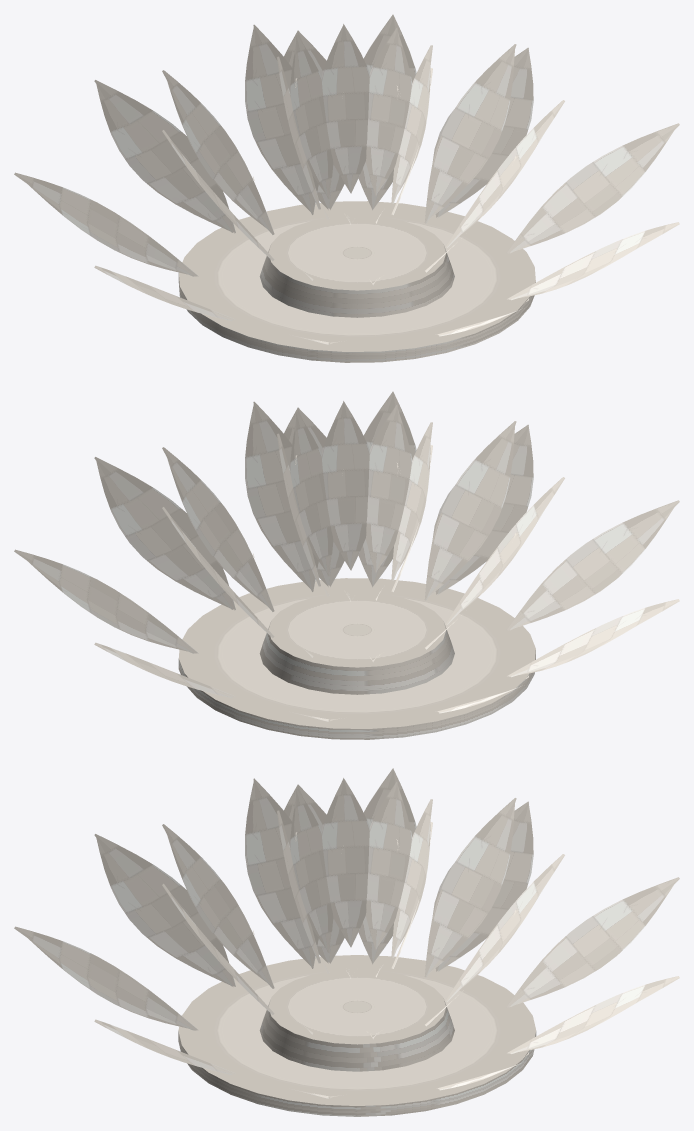
File: lotus.glb
3 renders of one model, top to bottom at view 1: azimuth 30°, elevation 25°; view 2: azimuth 150°, elevation 25°; view 3: azimuth 270°, elevation 25°, orthographic.
Visible parts, largest first — view 1: lotus; view 2: lotus; view 3: lotus.
Part boxes in pixels (x1,y1,x2,y2): lotus: (14,14,679,362); lotus: (14,391,679,739); lotus: (14,768,679,1116).
Bounding box in the file's own units: 62.35 × 23.49 × 61.4.
1 material, 1 textured.
